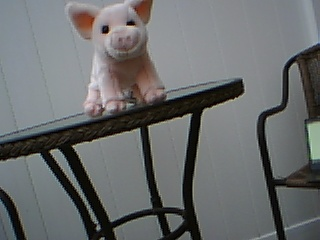piggy: (63, 1, 170, 118)
